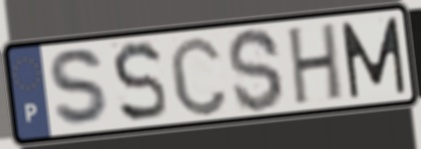C: (166, 32, 231, 119)
H: (287, 19, 345, 109)
M: (338, 14, 409, 102)
S: (46, 46, 115, 131), (225, 26, 287, 115), (109, 38, 170, 126)
